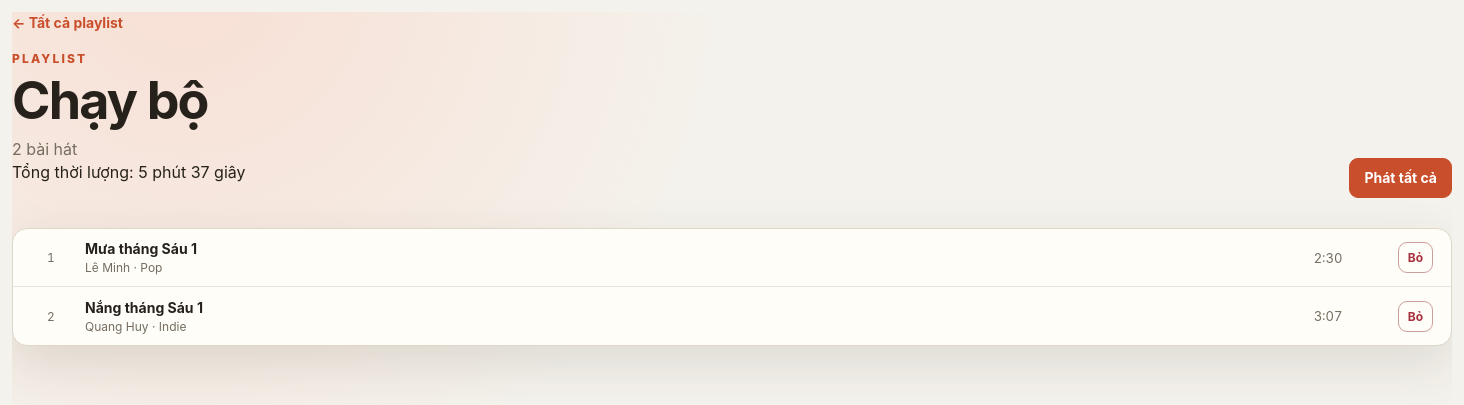
it: PlaylistDetailPage › bỏ bài hát khỏi playlist và cập nhật tổng thời lượng
Click the button "Bỏ" next to "2:30".
click(1415, 258)  # box [1398,242,1433,273]
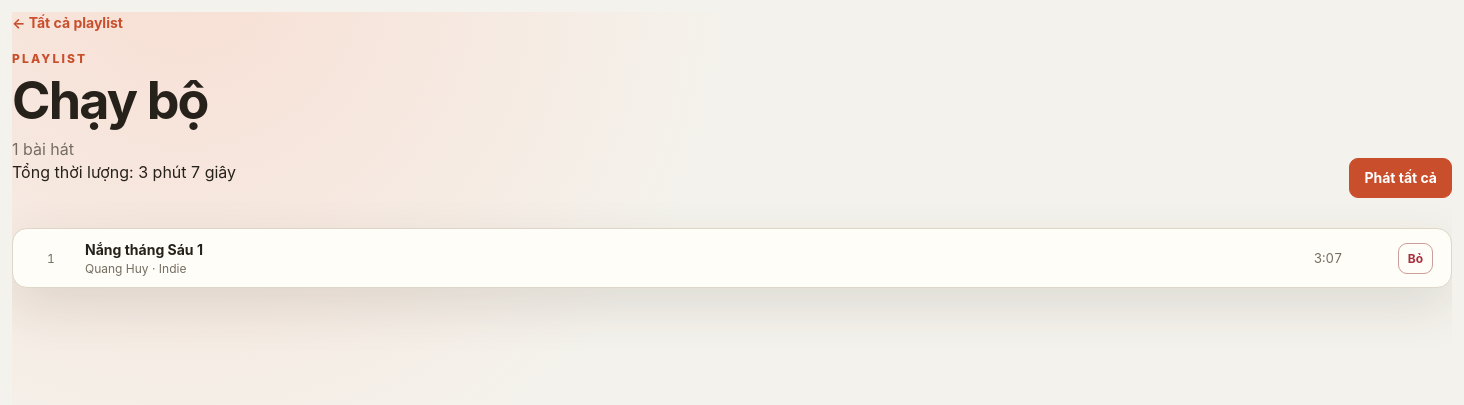
Result: the text "Mưa tháng Sáu 1" is gone
Result: the text "Tổng thời lượng: 3 phút 7 giây" is shown at [12,162,236,182]
